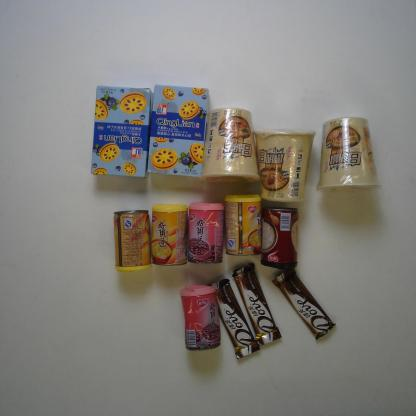Canned Food: (177, 281, 225, 353), (181, 198, 226, 267), (145, 202, 191, 268), (223, 192, 268, 259), (110, 206, 154, 274), (255, 205, 301, 270)
Chocolate: (269, 264, 337, 340), (204, 278, 263, 362), (228, 261, 284, 349)
Dessert: (144, 82, 211, 177), (88, 83, 152, 180)
Instant Noodles: (313, 115, 382, 196), (250, 126, 317, 204), (199, 106, 262, 186)
